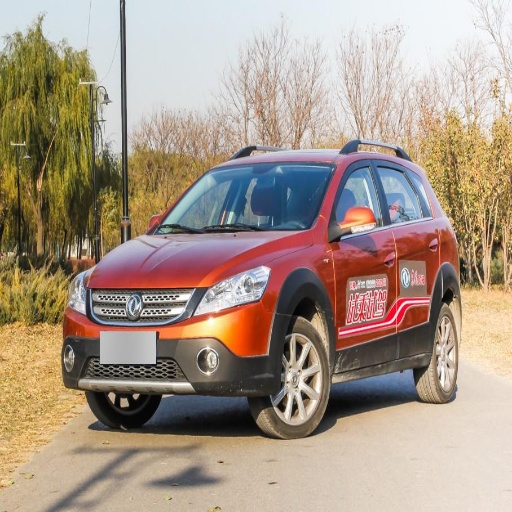front_bumper: (62, 287, 276, 398)
front_glass: (153, 163, 334, 233)
front_left_door: (328, 156, 395, 355)
